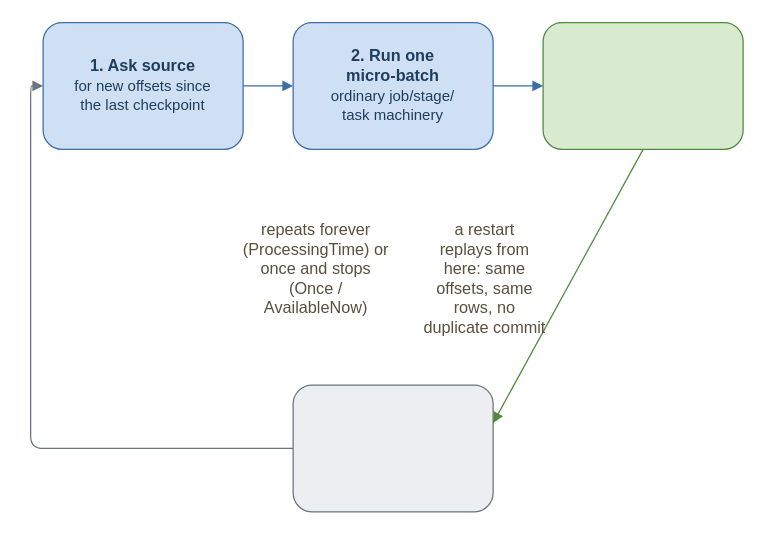
Some shapes in this 765 by 534 pixel diagram are drawn without their labels. Each missing label, with the centre of its shape:
3. Commit to orders (Iceberg) one snapshot, keyed by batch id: (642,85)
4. Write offset to checkpoint only after step 3 succeeds: (392,448)
